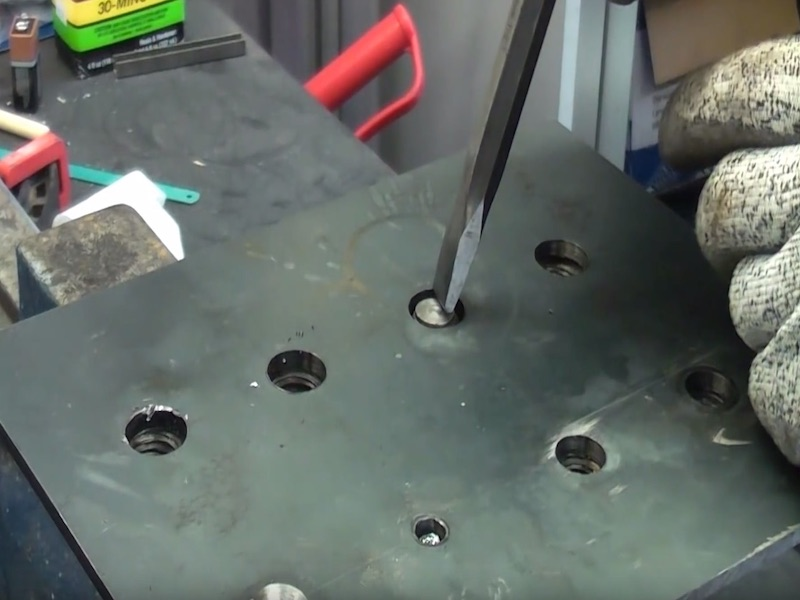hole: (123, 403, 191, 460), (262, 347, 330, 398), (681, 367, 741, 414), (532, 236, 594, 280), (552, 432, 612, 477)
screw: (411, 513, 451, 547)
